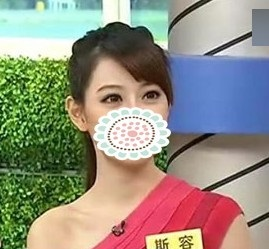face: (85, 62, 169, 162)
